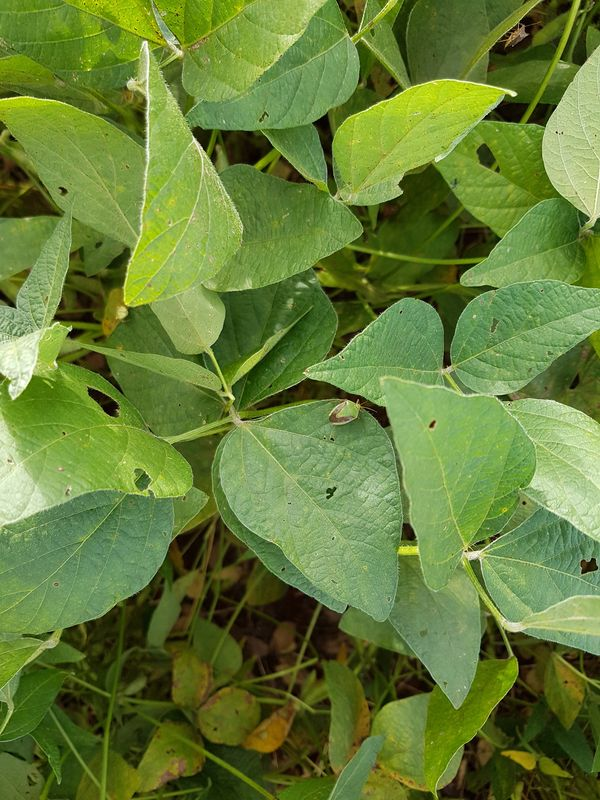Edessa_meditabunda: (316, 385, 375, 435)
Euschistus_heros_adulto: (489, 17, 542, 57)
Euschistus_heros_ninfa: (111, 301, 132, 323)
